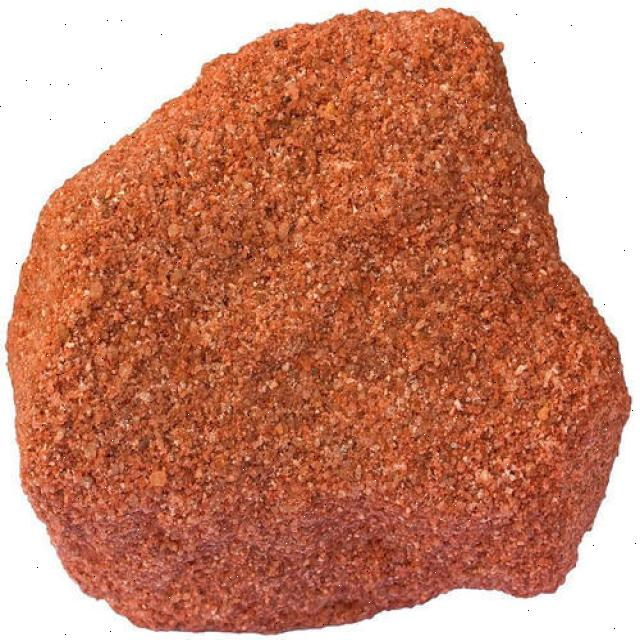Sedimentary: (10, 7, 631, 636)
